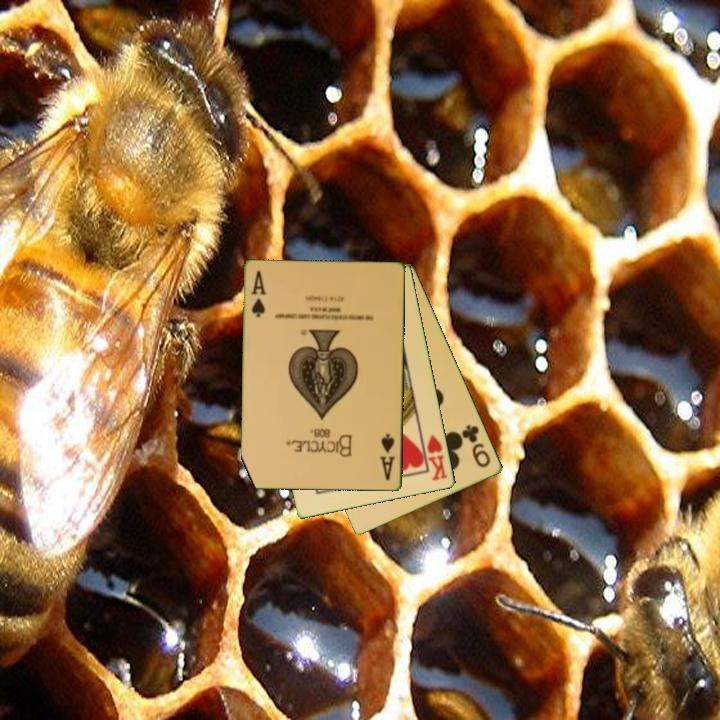9c: (459, 421, 494, 471)
As: (248, 267, 269, 320), (377, 431, 398, 483)
Kh: (418, 429, 451, 484)
